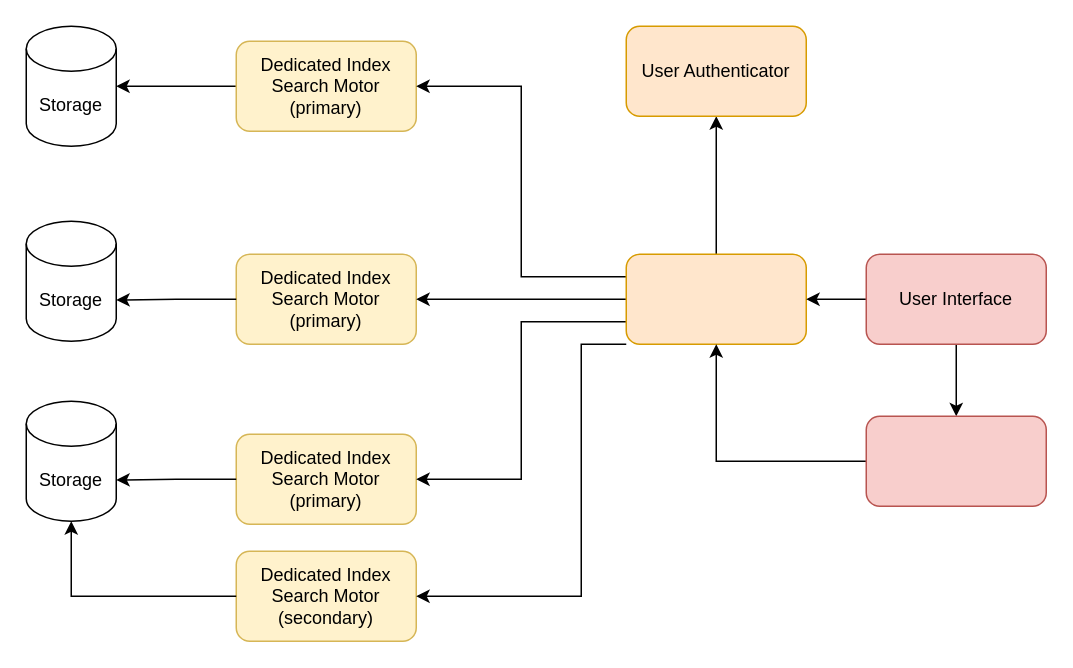
Some shapes in this 1073 by 668 pixel diagram are drawn without their labels. The centre of each missing label's shape, as x and y in pixels:
"Index Search Motor" goes at point (715, 298).
"SOAR" goes at point (955, 460).
